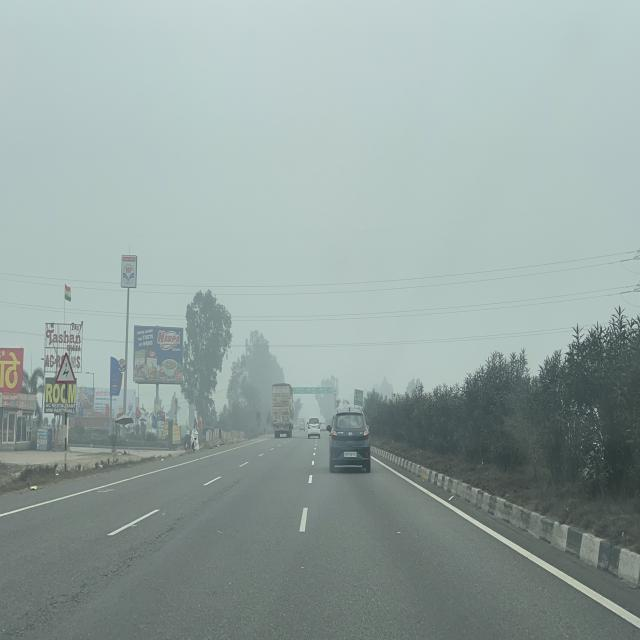WARNING: (55, 352, 76, 384)
